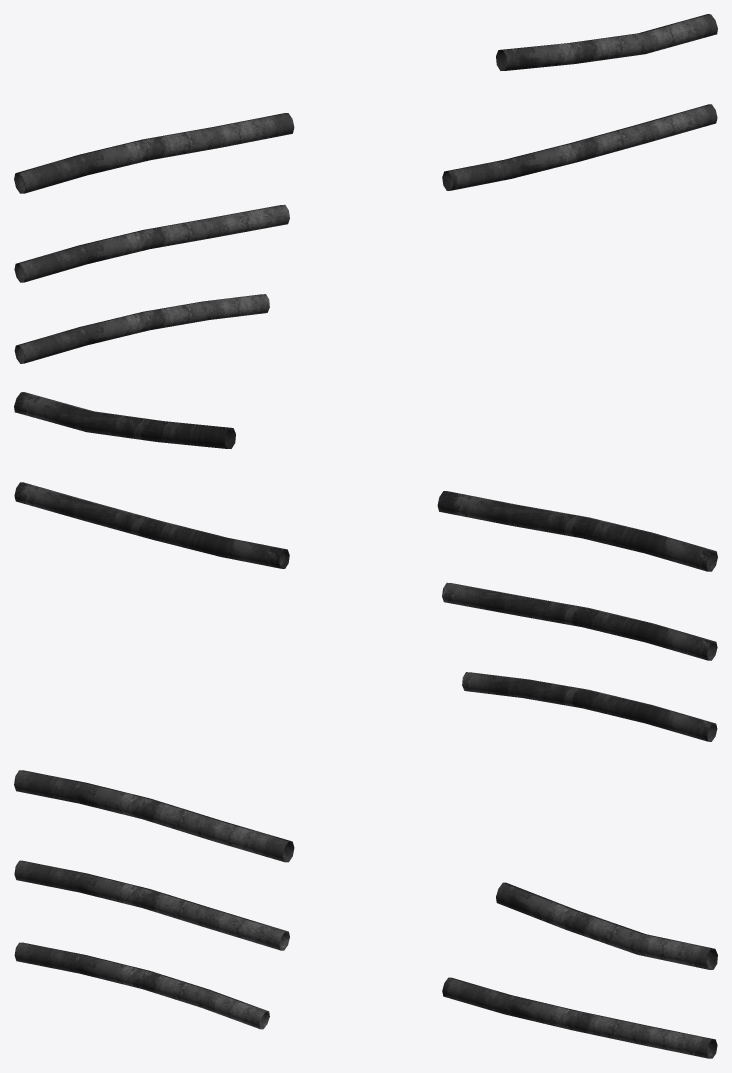
Rendered from Pipes1.fbx.
3 views of the same model, one above another, from view 1: azimuth 30°, elevation 25°; view 2: azimuth 150°, elevation 25°; view 3: azimuth 330°, elevation 25° (orthographic).
Visible parts, largest first — view 1: SmartCombine_3; view 2: SmartCombine_3; view 3: SmartCombine_3.
Part boxes in pixels (x1,y1,x2,y2): SmartCombine_3: [14, 14, 717, 363]; SmartCombine_3: [14, 392, 717, 741]; SmartCombine_3: [14, 770, 717, 1058].
Bounding box in the file's own units: 174 × 49.08 × 5.
